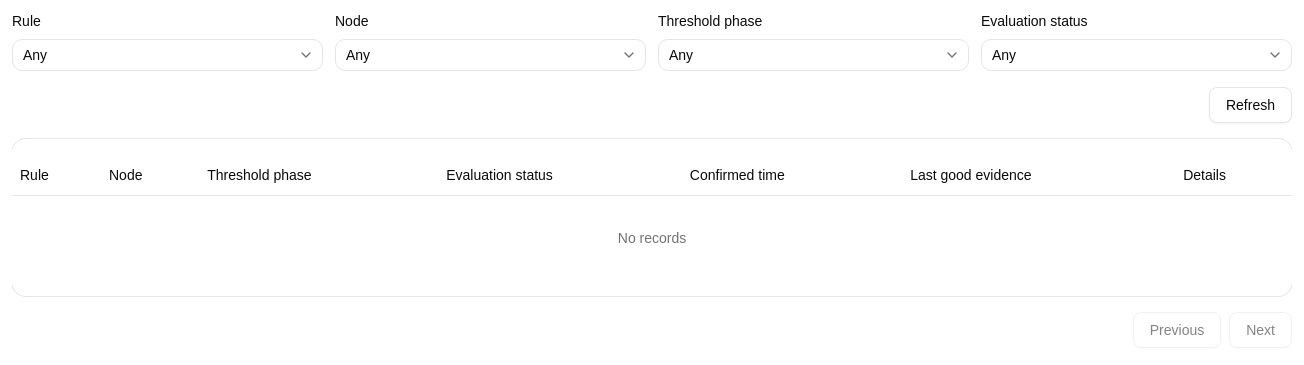
Test: shows empty pages and missing references without using zero as evidence
The image size is (1304, 365).
Check: the text "No records" is shown, box [12,195,1292,280]
Check: the button "Next" is disabled, box [1229,312,1292,348]
Click the button "Refresh" at (1250, 105), box [1209,87,1292,123]
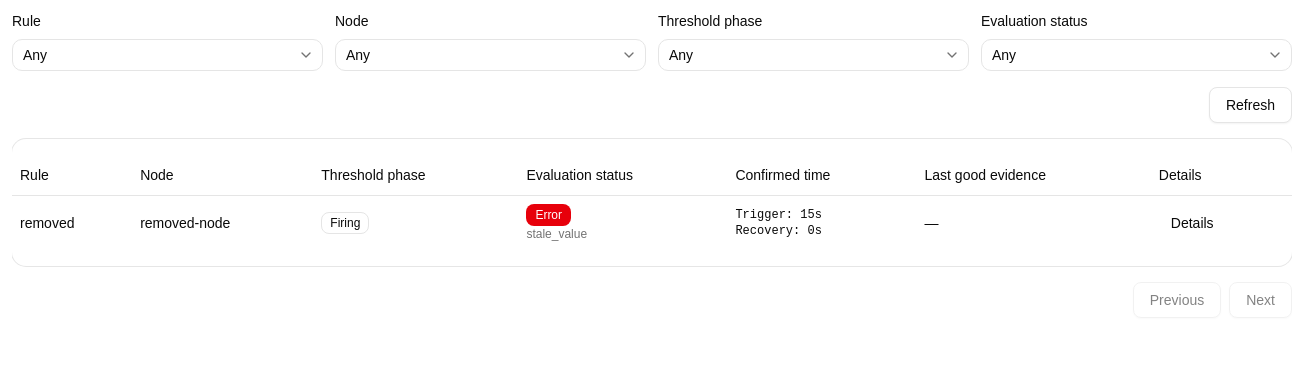
Check: the text "removed-node" is shown, box [132,195,313,250]
Check: the text "removed" is shown, box [12,195,132,250]
